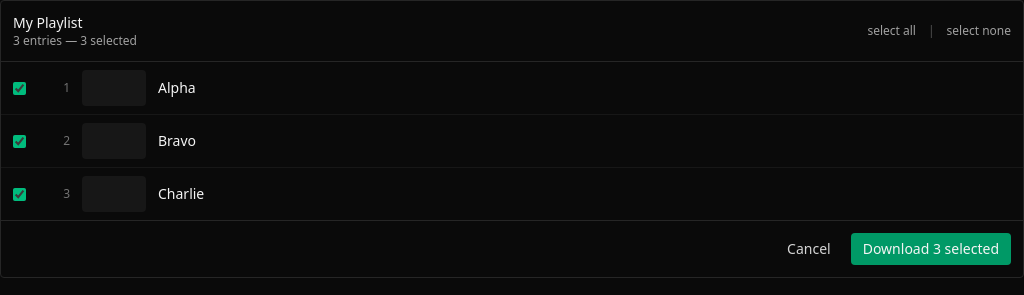
Test case: PreviewPanel › toggling a checkbox updates the selected count
This screenshot has width=1024, height=295.
Step 1. Click the checkbox named "select Alpha" → (20, 88), box [13,82,26,94]
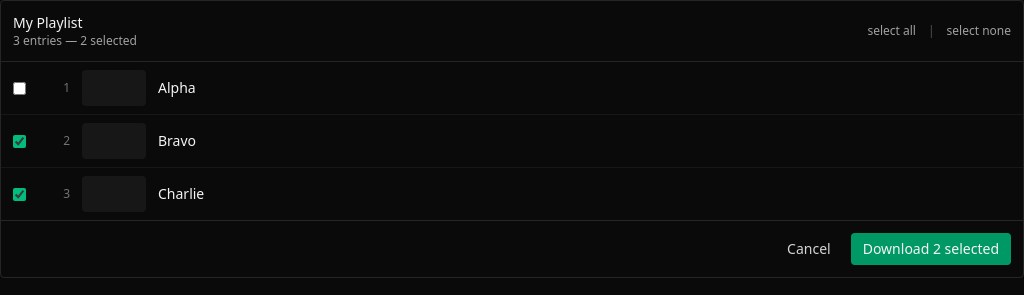
Expected: the text "3 entries — 2 selected" is shown, [13,33,137,49]
Expected: the button "Download 2 selected" is shown, [851,233,1011,265]
